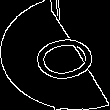O_NE: (11, 25, 99, 85)
